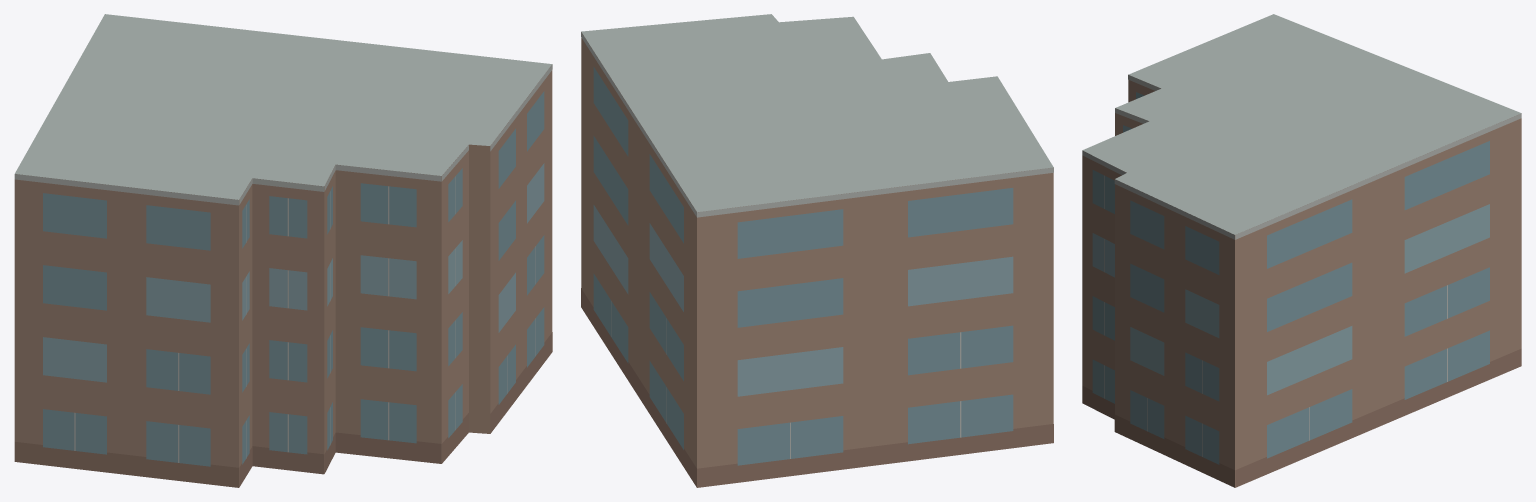
File: survey-upis-32889096.glb
3 views of the same model, side by side, from view 1: azimuth 30°, elevation 25°; view 2: azimuth 150°, elevation 25°; view 3: azimuth 270°, elevation 25° (orthographic). The views are drawn at different scales.
Parts seen in each view (by area): view 1: survey-upis-32889096.tmp; view 2: survey-upis-32889096.tmp; view 3: survey-upis-32889096.tmp.
Part boxes in pixels (x1,y1,x2,y2): survey-upis-32889096.tmp: [14, 14, 552, 487]; survey-upis-32889096.tmp: [581, 14, 1053, 487]; survey-upis-32889096.tmp: [1082, 14, 1521, 487].
Bounding box in the file's own units: 23.44 × 12.5 × 19.69.
